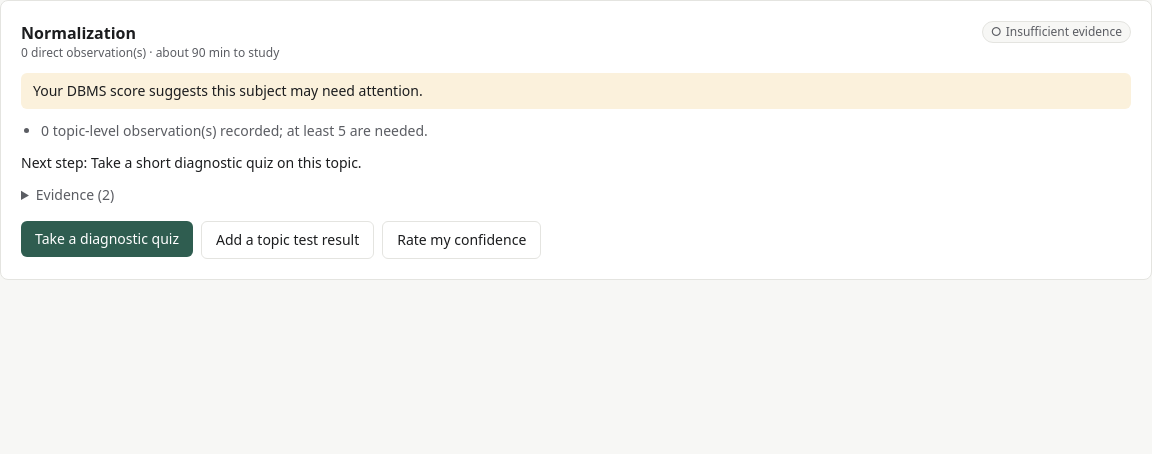
Test: TopicCard › shows the API's error instead of pretending to save
Click the button "Rate my confidence". click: (462, 240)
box: [382,221,541,259]
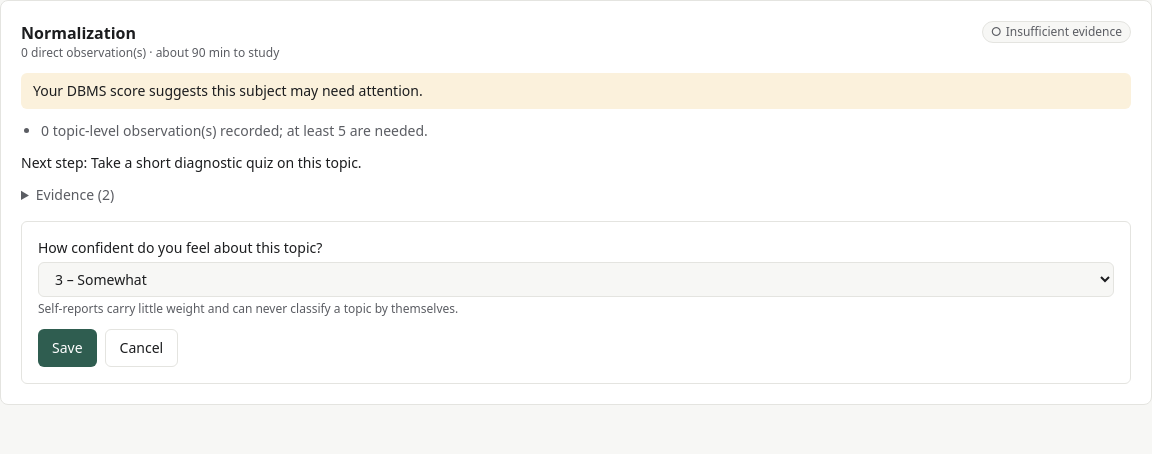
Click the button "Save". click: (67, 348)
box: [38,329,97,367]
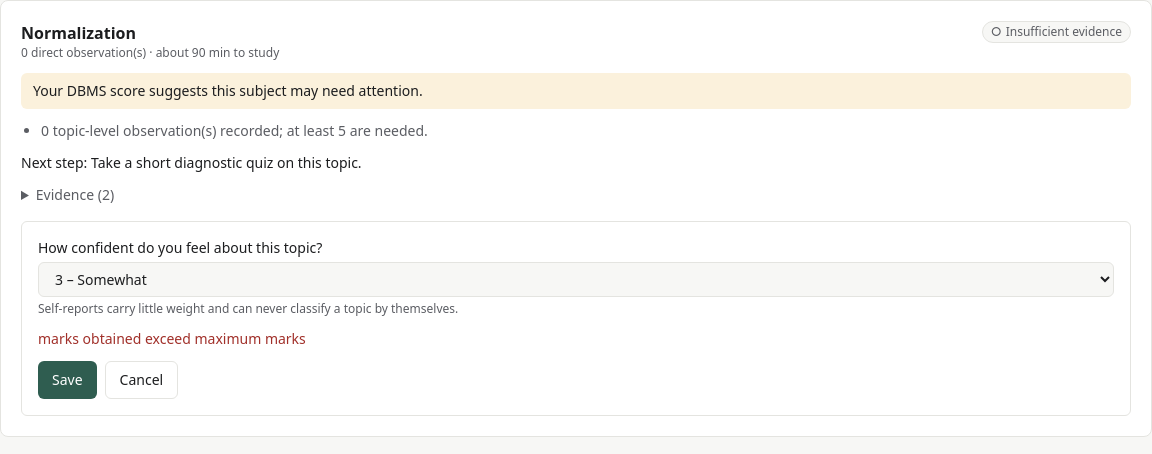
Now the message shows "exceed maximum", box [38,329,306,348]
